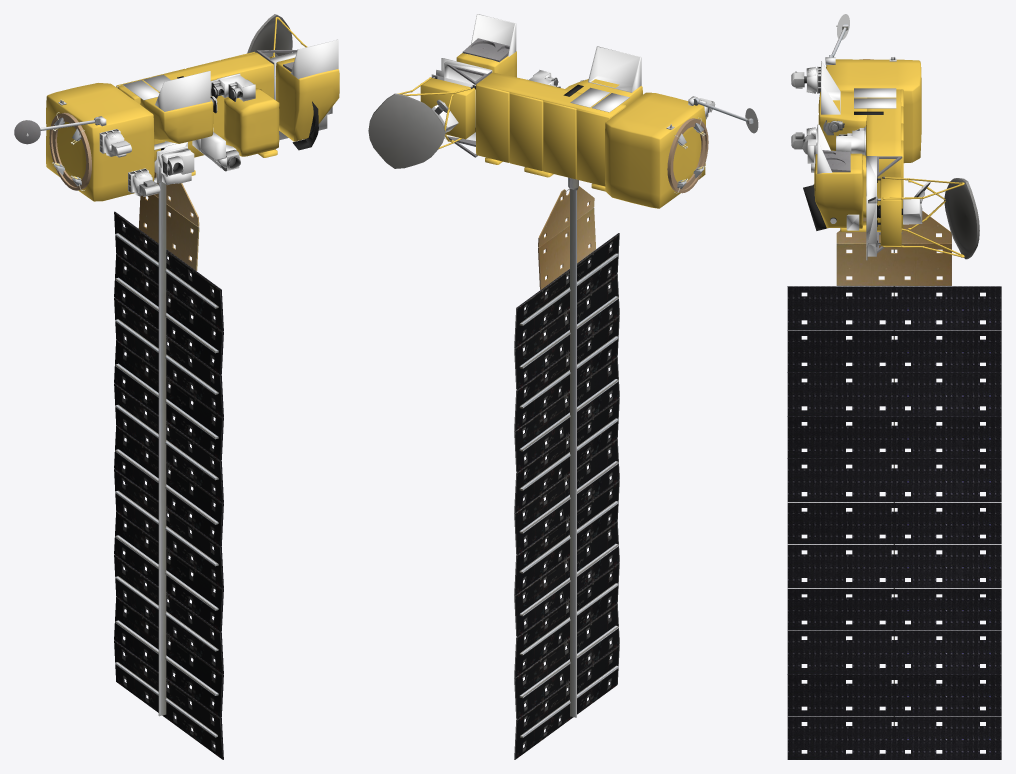
File: Aqua.glb
The picture shows the model from 3 angles, left to right: view 1: azimuth 30°, elevation 25°; view 2: azimuth 150°, elevation 25°; view 3: azimuth 270°, elevation 25°; orthographic projection. The views are drawn at different scales.
Parts seen in each view (by area): view 1: panel, foil_gold, foil_silver, tex_01, instruments, ring; view 2: panel, foil_gold, tex_01, foil_silver, ring; view 3: shiny_panel, foil_gold, panel, foil_silver, tex_01, instruments, black_krinkle.
Part boxes in pixels (bbox=[...]): panel: bbox=[114, 172, 223, 759]; foil_gold: bbox=[46, 17, 339, 201]; foil_silver: bbox=[98, 39, 338, 196]; tex_01: bbox=[14, 14, 297, 144]; instruments: bbox=[58, 50, 278, 196]; ring: bbox=[49, 112, 91, 190]; panel: bbox=[514, 177, 619, 759]; foil_gold: bbox=[397, 51, 705, 208]; tex_01: bbox=[368, 38, 758, 168]; foil_silver: bbox=[431, 14, 711, 140]; ring: bbox=[667, 117, 708, 193]; shiny_panel: bbox=[787, 287, 1001, 759]; foil_gold: bbox=[814, 59, 964, 257]; panel: bbox=[787, 211, 1001, 754]; foil_silver: bbox=[795, 57, 922, 260]; tex_01: bbox=[822, 14, 979, 259]; instruments: bbox=[791, 56, 930, 247]; black_krinkle: bbox=[803, 111, 883, 230].
Bounding box in the file's own units: 9.4 × 17.78 × 5.08.
Materials: 11 (4 with a texture image).
